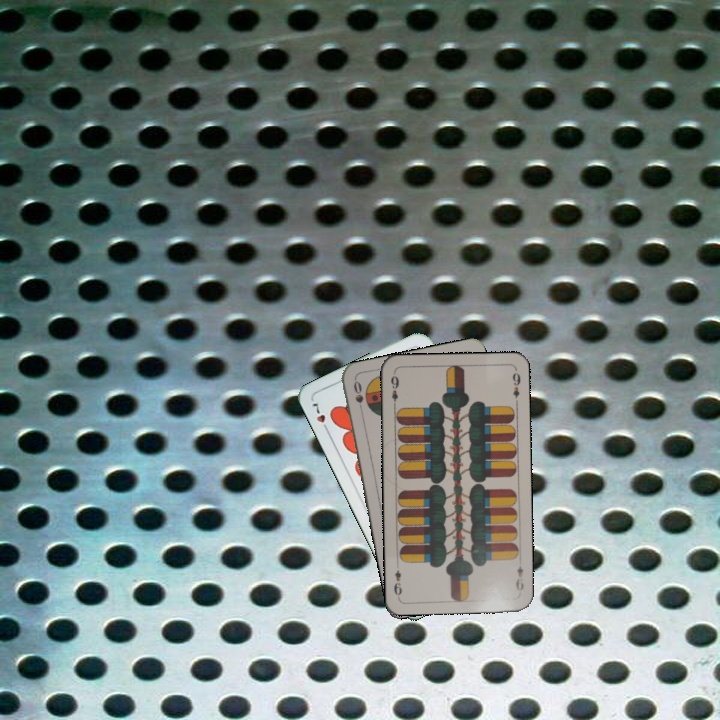E9: (387, 369, 402, 410), (512, 562, 526, 593)
H7: (308, 399, 332, 435)
SO: (349, 377, 366, 417)
